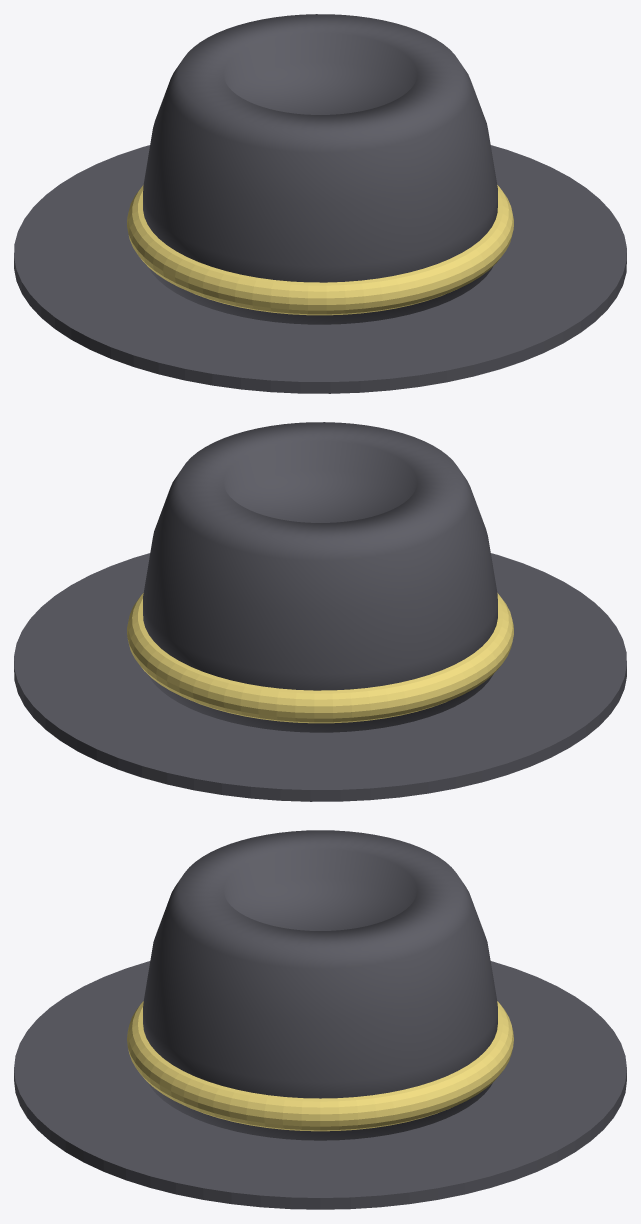
File: sandbox-fedora.glb
The picture shows the model from 3 angles, top to bottom: view 1: azimuth 30°, elevation 25°; view 2: azimuth 150°, elevation 25°; view 3: azimuth 270°, elevation 25°; orthographic projection.
Parts seen in each view (by area): view 1: SandboxFedora; view 2: SandboxFedora; view 3: SandboxFedora.
Boxes of the visible parts, x1=… form: SandboxFedora: x1=14, y1=14, x2=626, y2=393; SandboxFedora: x1=14, y1=422, x2=626, y2=801; SandboxFedora: x1=14, y1=830, x2=626, y2=1209.
Bounding box in the file's own units: 0.38 × 0.13 × 0.38.
